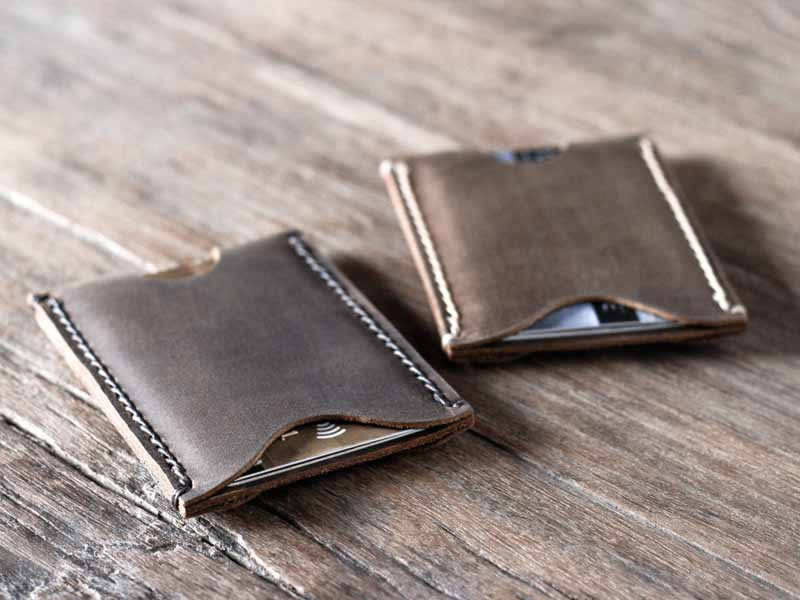monedero: (21, 227, 480, 521), (377, 133, 752, 371)
